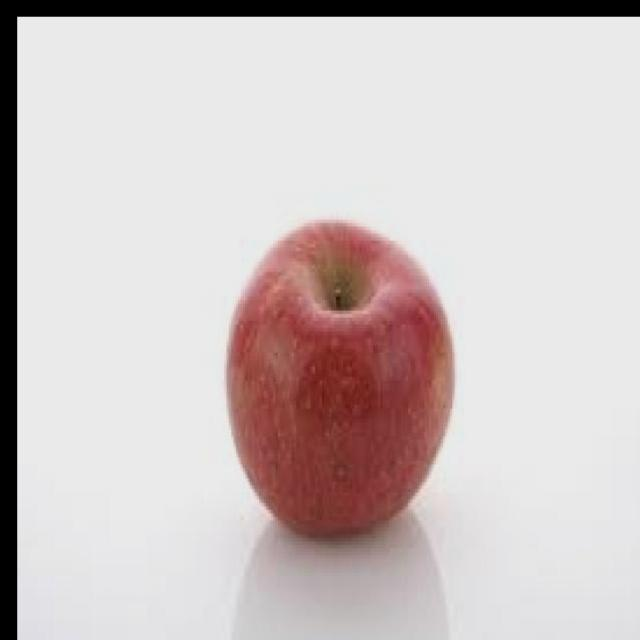red apple: (221, 217, 453, 542)
